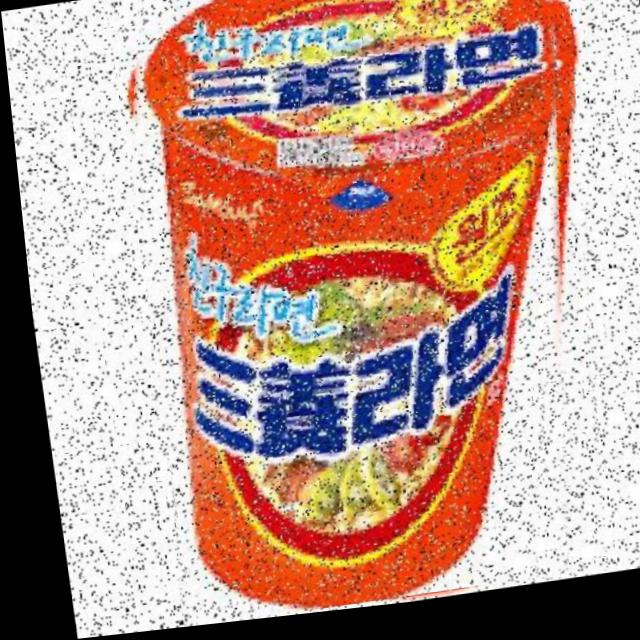Miscellaneous: (104, 0, 626, 631)
